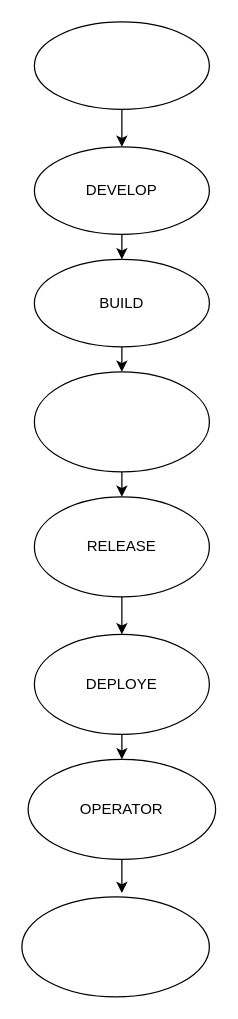
Some shapes in this 238 by 1019 pixel diagram are drawn without their labels. Here are the shapes that lost their labels. From the top down, the centre of each, then its label:
[121,65]: PLAN
[121,421]: TEST
[115,946]: MONITOR
